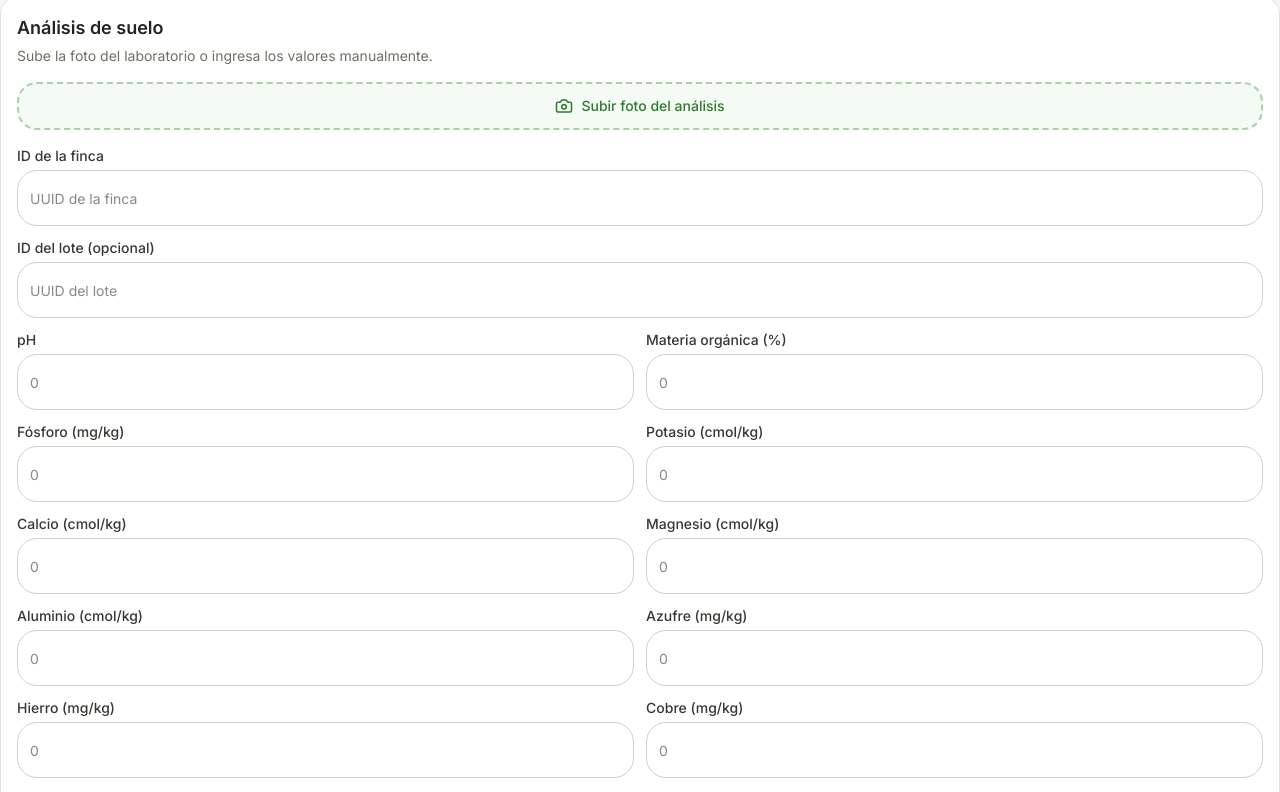
Scenario: SoilAnalysisForm › renderiza resultado cuando API responde ok
Step 1. Type "bbbbbbbb-0000-4000-8000-000000000001" into the field with placeholder "UUID de la finca" → [640, 198], box [17,170,1263,226]
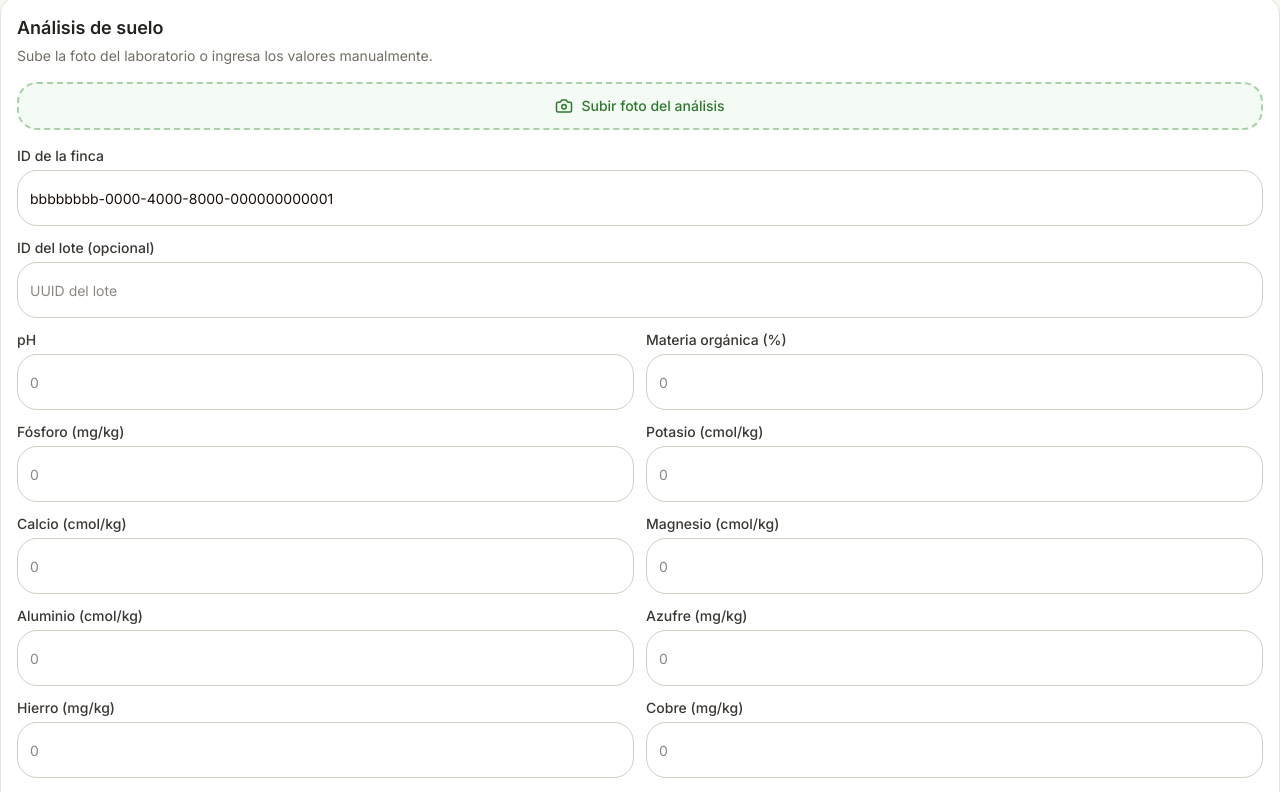
Step 2. Type "5.1" into the field labelled "pH" → [326, 382], box [17,354,634,410]
(page scrolled)
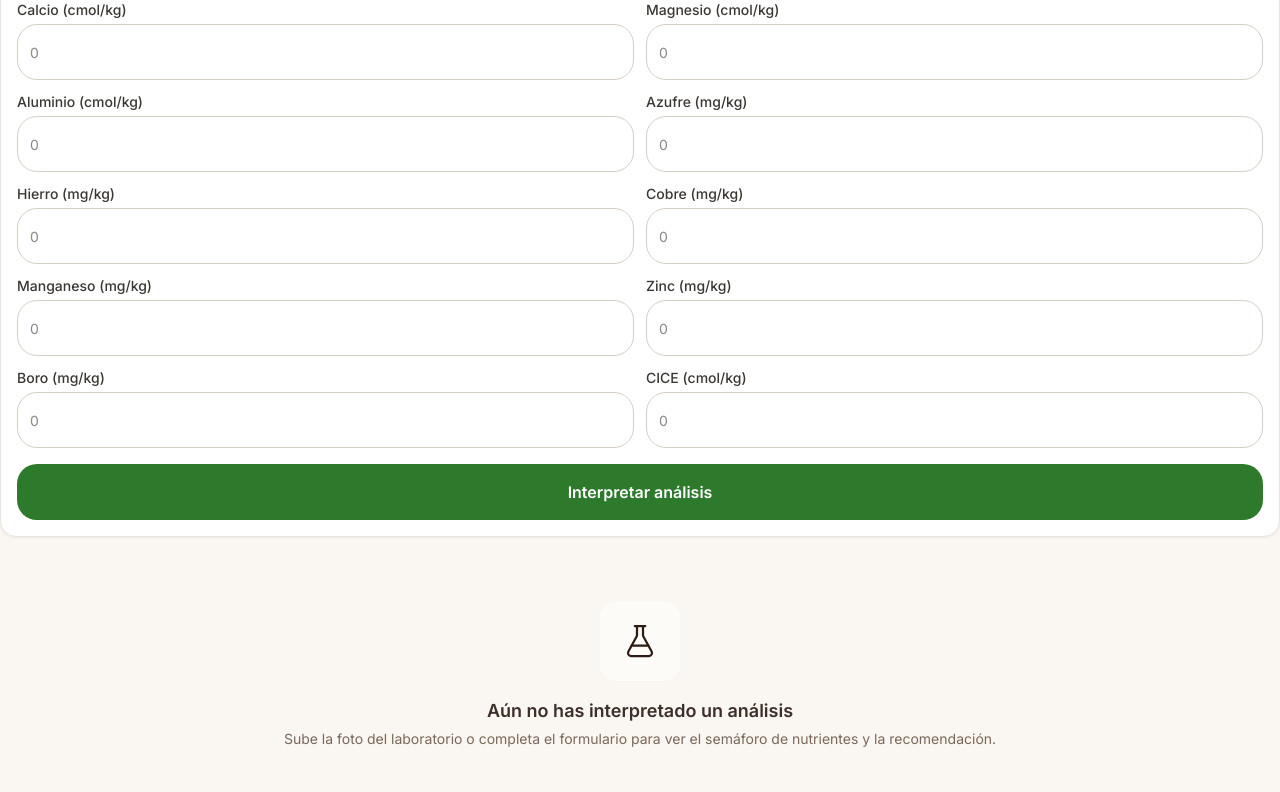
Step 3. Click the button "Interpretar análisis" → [640, 492], box [17,464,1263,520]
(page scrolled)
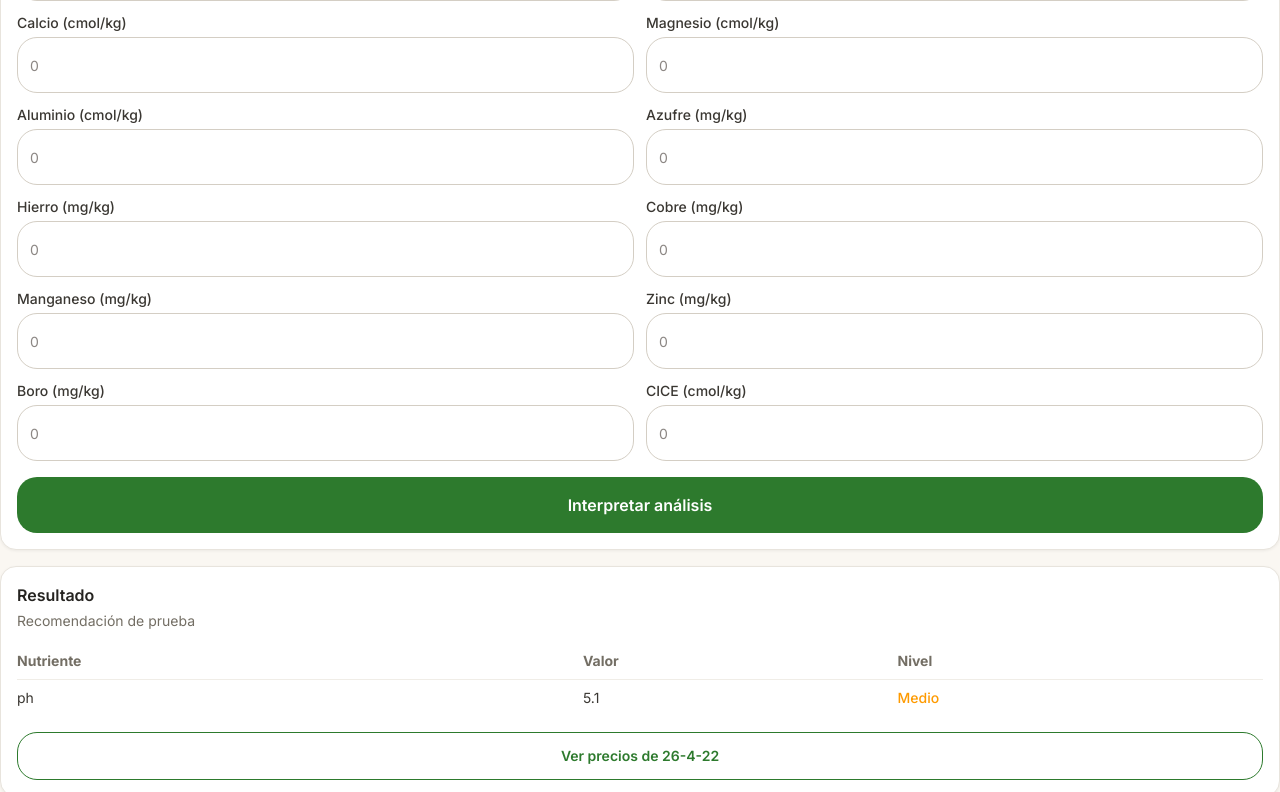
expect the heading "Resultado" is shown: met, box [17,585,94,605]
expect the text "Recomendación de prueba" is shown: met, box [17,612,195,629]
